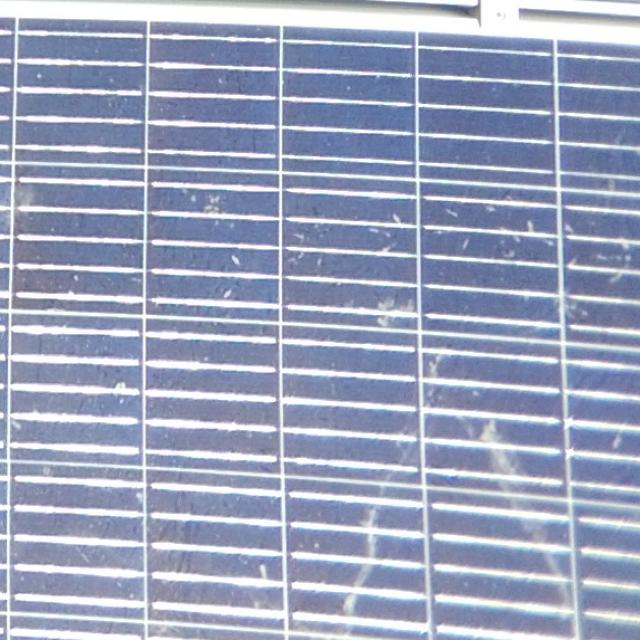Dust: (308, 337, 579, 627)
